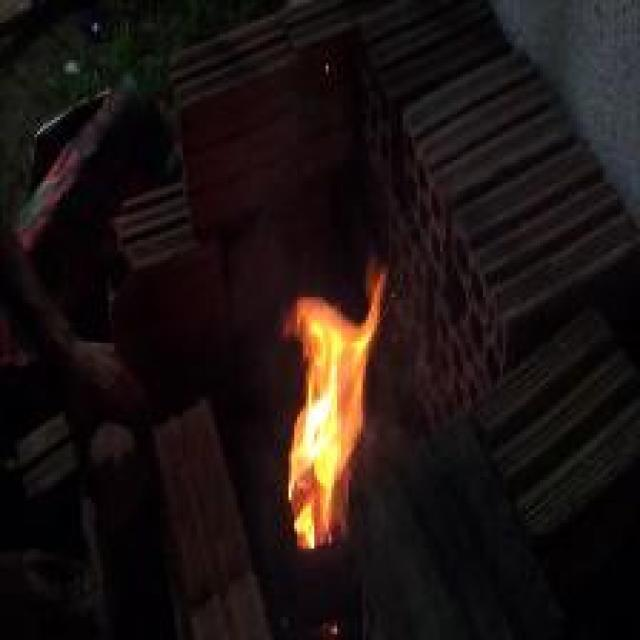Fire: (286, 268, 386, 548)
